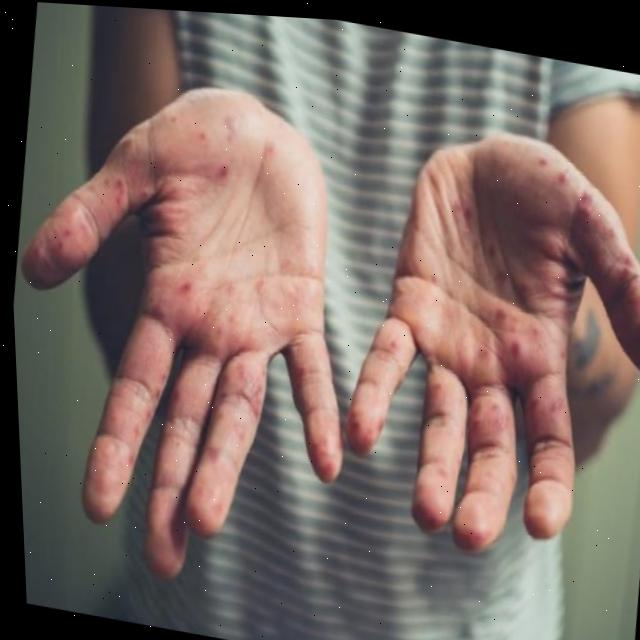Eczema: (319, 140, 633, 507), (86, 131, 336, 514)
